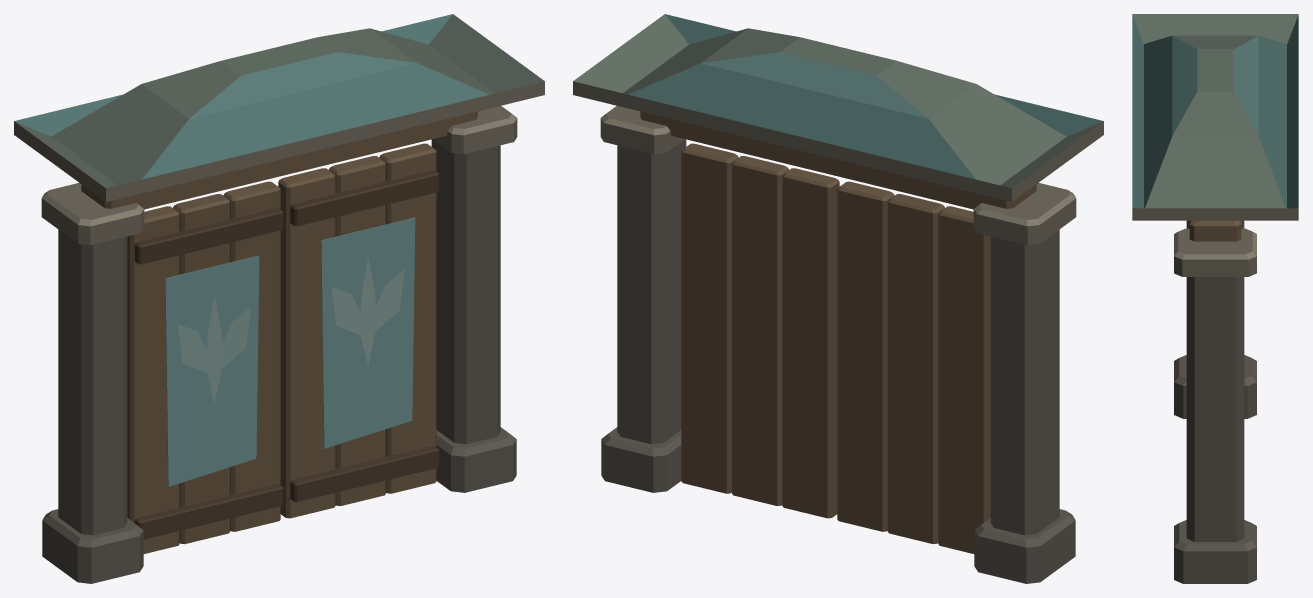
Rendered from garden_gate.glb.
3 renders of one model, left to right at view 1: azimuth 30°, elevation 25°; view 2: azimuth 150°, elevation 25°; view 3: azimuth 270°, elevation 25°, orthographic. The views are drawn at different scales.
Visible parts, largest first — view 1: Body_garden_gate.002, DoorLeaf_Right.003, DoorLeaf_Left.003; view 2: Body_garden_gate.002, DoorLeaf_Right.003, DoorLeaf_Left.003; view 3: Body_garden_gate.002.
Boxes of the visible parts, bbox=[...] form: Body_garden_gate.002: bbox=[14, 14, 544, 583]; DoorLeaf_Right.003: bbox=[278, 143, 439, 518]; DoorLeaf_Left.003: bbox=[127, 181, 283, 553]; Body_garden_gate.002: bbox=[573, 14, 1103, 583]; DoorLeaf_Right.003: bbox=[681, 143, 839, 518]; DoorLeaf_Left.003: bbox=[837, 181, 990, 553]; Body_garden_gate.002: bbox=[1132, 14, 1298, 583].
Size of the model in its own units: 4 by 4 by 1.45.
